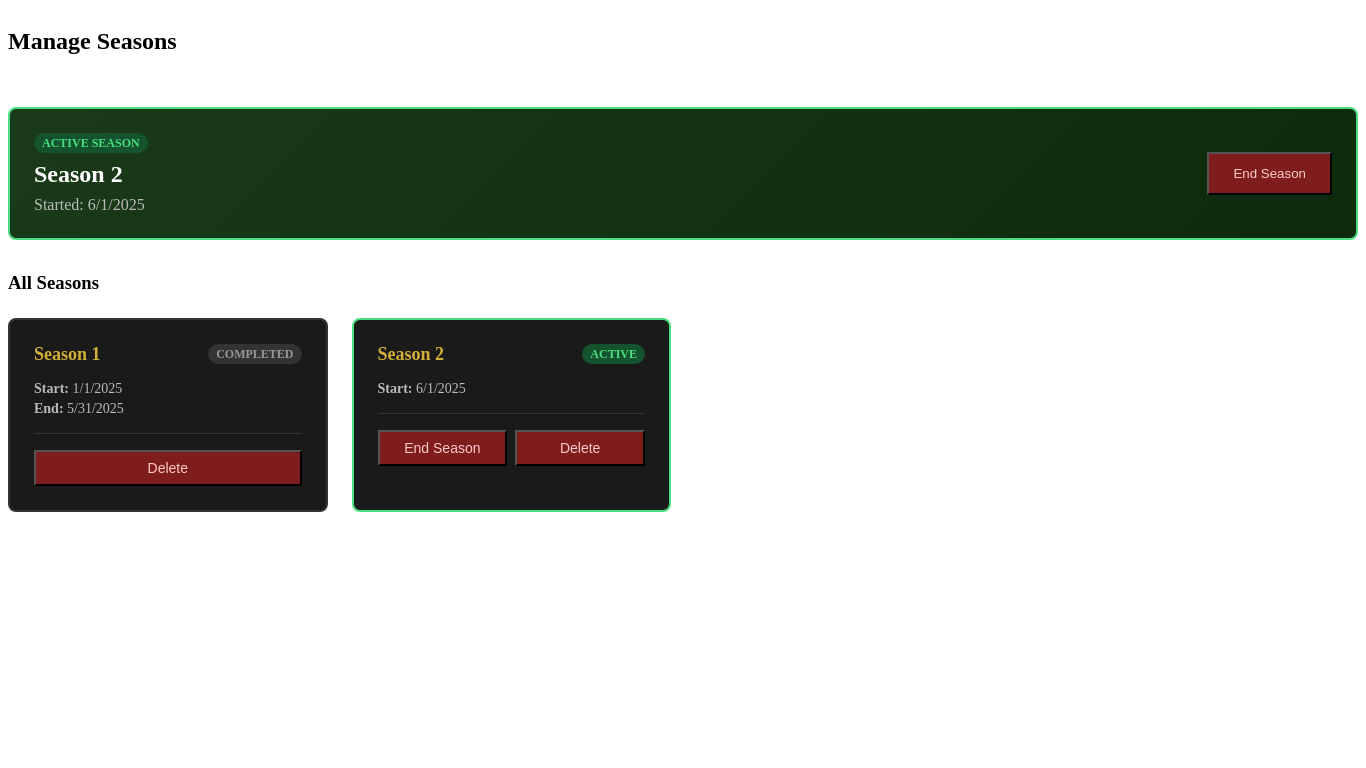
Test: ManageSeasons › ends an active season by changing its status to completed
Expected: the heading "Manage Seasons" is shown, [8,28,177,55]
Note: Click "End Season" in the active season banner
Click the 1st button "End Season".
click(1270, 174)  # box [1207,152,1332,195]
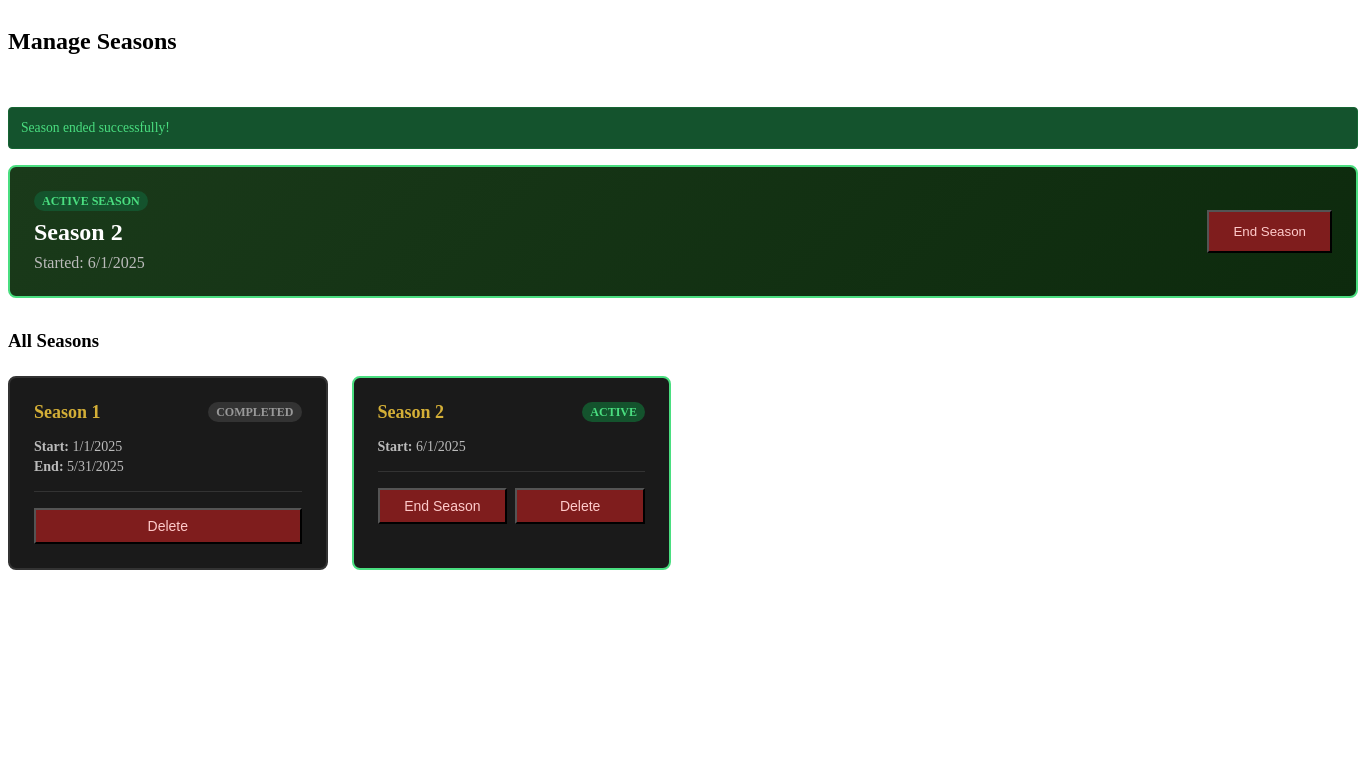
Result: the text "Season ended successfully!" is shown at [8,107,1358,149]
